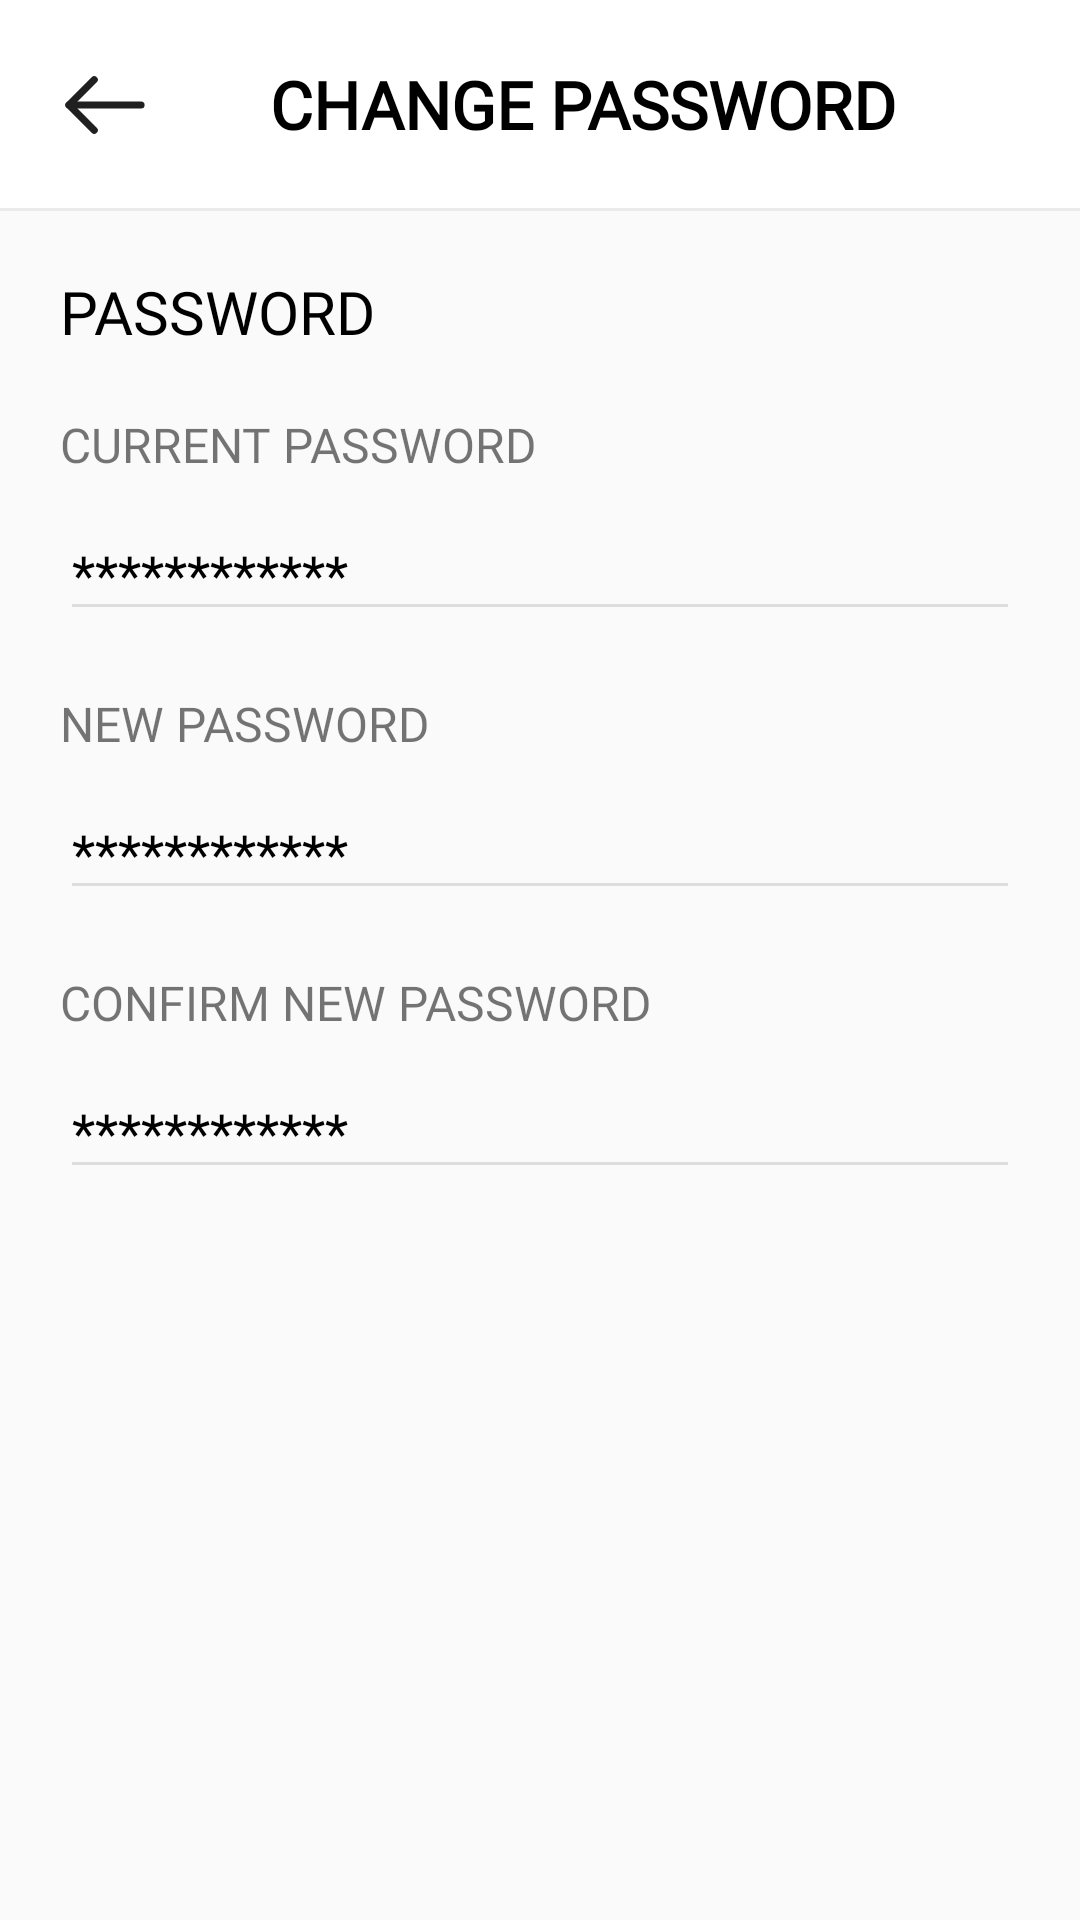

Screen size 1080 x 1920. Icon name, then its box in pixels as (x1, y1, x2, y2):
backarrow: (65, 76, 145, 134)
